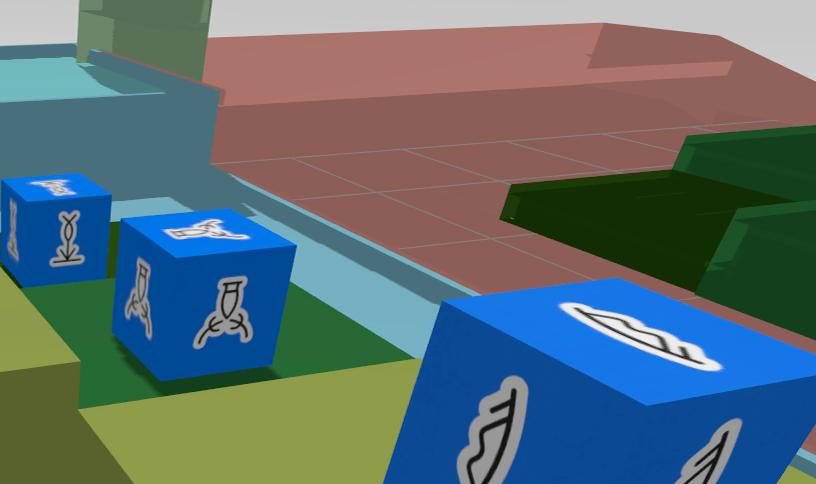KFS_REAL: (384, 279, 815, 484), (111, 209, 295, 378), (1, 173, 111, 285), (560, 302, 722, 371), (458, 377, 527, 484), (671, 419, 739, 484), (194, 277, 252, 348), (124, 259, 152, 338), (49, 210, 84, 267)
